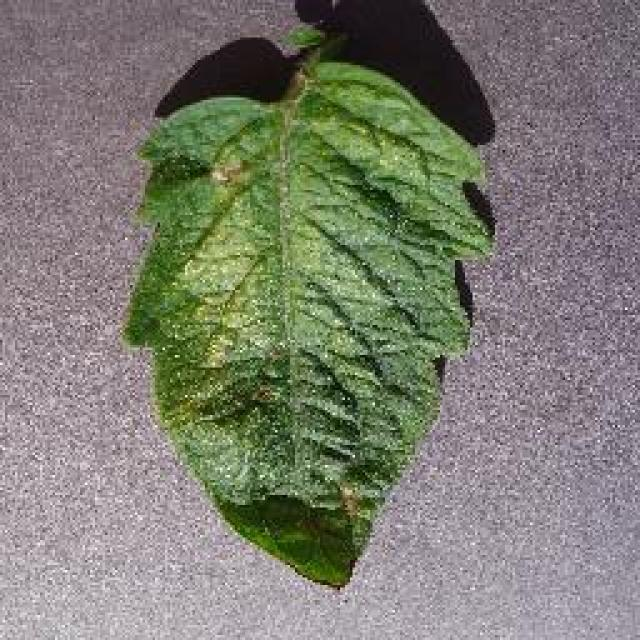Tomato___Spider_mites Two-spotted_spider_mite: (122, 30, 490, 585)
